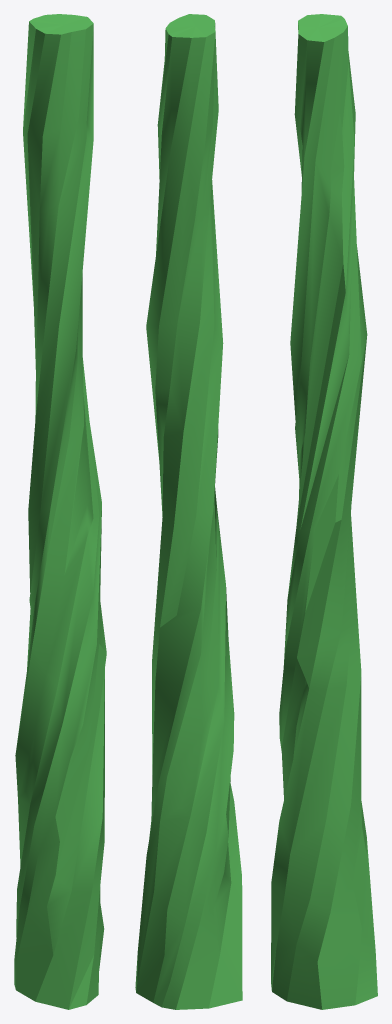
File: jungle_tree_C_twist.fbx
3 renders of one model, left to right at view 1: azimuth 90°, elevation 25°; view 2: azimuth 150°, elevation 25°; view 3: azimuth 330°, elevation 25°, orthographic.
Visible parts, largest first — view 1: jungle_tree_C_twist; view 2: jungle_tree_C_twist; view 3: jungle_tree_C_twist.
Part boxes in pixels (x1,y1,x2,y2): jungle_tree_C_twist: (14, 14, 106, 1009); jungle_tree_C_twist: (135, 14, 242, 1009); jungle_tree_C_twist: (271, 14, 377, 1009).
Size of the model in its own units: 80.67 by 794 by 69.15.
